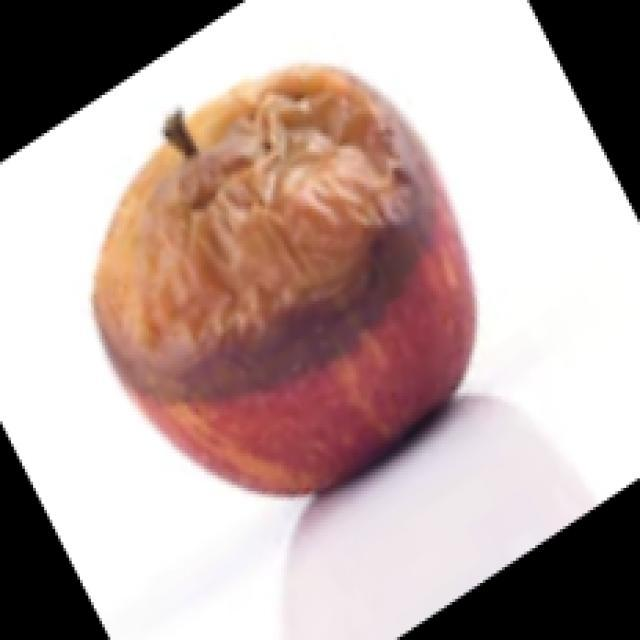Rotten: (88, 42, 492, 503)
